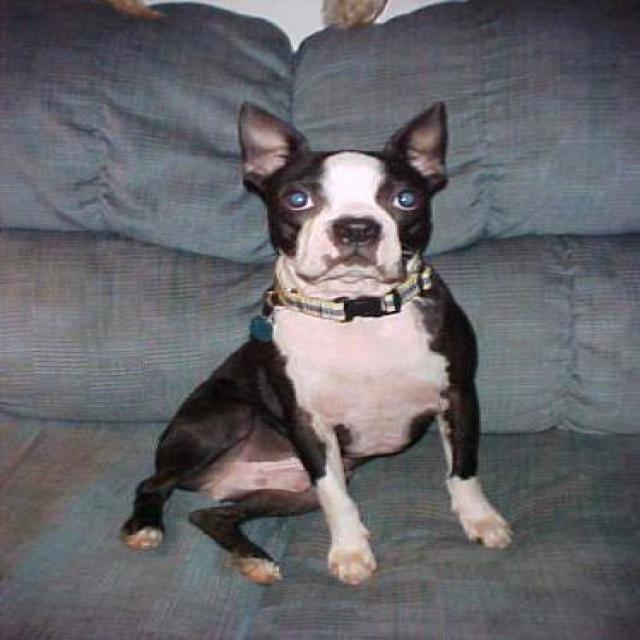dog: (116, 98, 514, 586)
